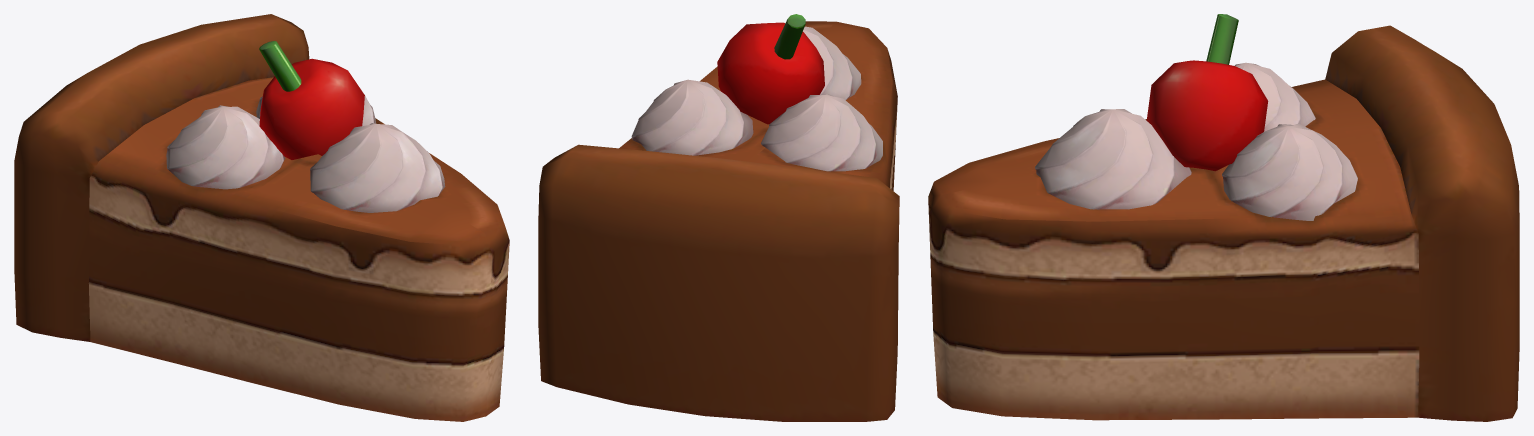
File: 0-cake_brown.fbx
The picture shows the model from 3 angles, left to right: view 1: azimuth 30°, elevation 25°; view 2: azimuth 150°, elevation 25°; view 3: azimuth 270°, elevation 25°; orthographic projection. The views are drawn at different scales.
Parts seen in each view (by area): view 1: 0-cake_brown; view 2: 0-cake_brown; view 3: 0-cake_brown.
Part boxes in pixels (x1,y1,x2,y2): 0-cake_brown: (14, 14, 509, 421); 0-cake_brown: (538, 14, 899, 421); 0-cake_brown: (928, 14, 1519, 421).
Size of the model in its own units: 64.22 by 59.8 by 94.42.
